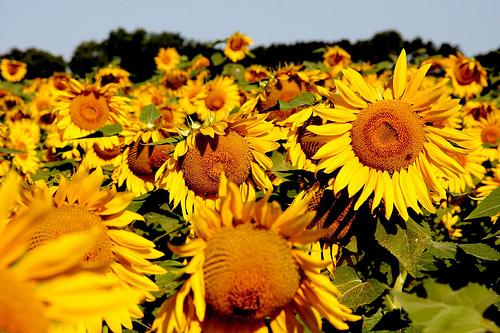sunflower: (176, 198, 353, 333), (317, 59, 467, 214), (1, 167, 131, 333), (164, 105, 275, 214), (50, 85, 127, 140), (114, 131, 178, 196), (256, 68, 330, 118), (461, 99, 500, 171), (190, 76, 242, 126), (450, 51, 489, 98), (224, 33, 254, 59), (0, 57, 27, 81), (155, 48, 178, 69)
